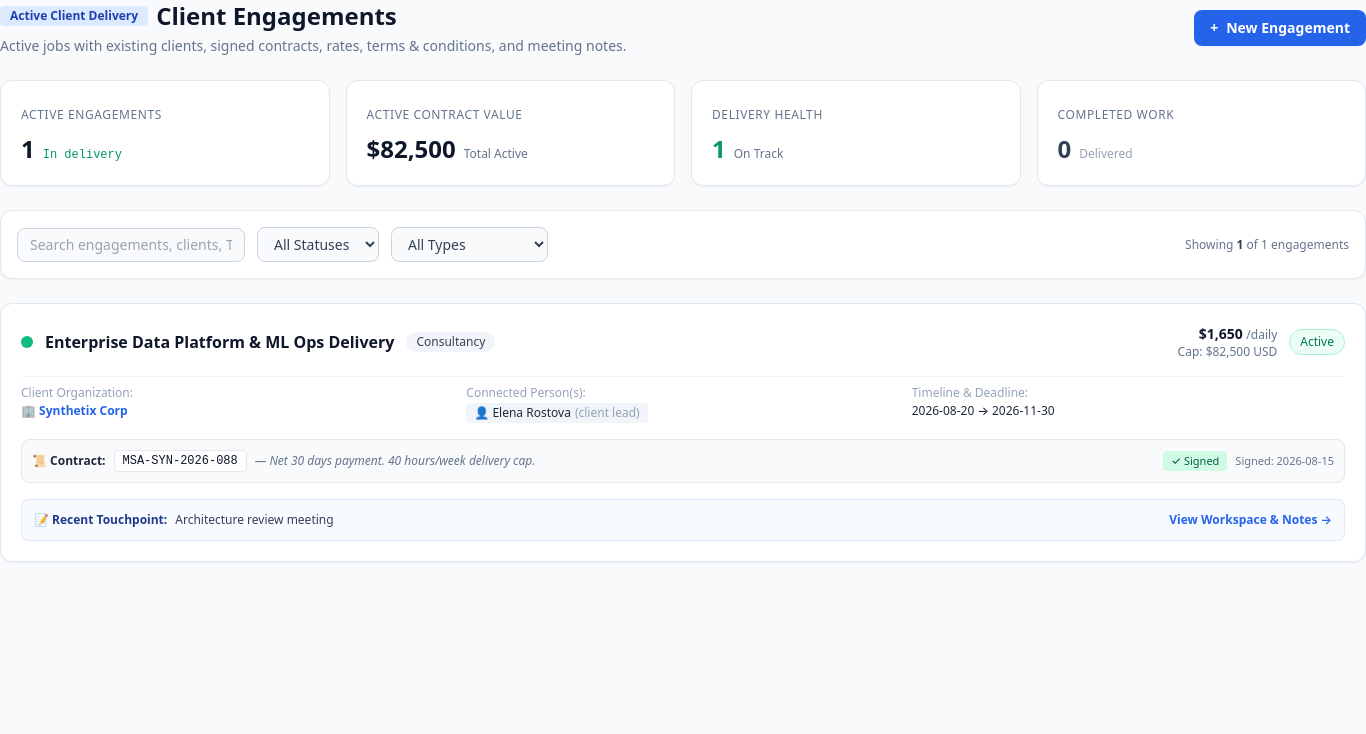
Scenario: EngagementsPage › opens new engagement modal and submits properly
Expected: the link "Enterprise Data Platform & ML Ops Delivery" is shown, [45,331,394,353]
Click the button "+ New Engagement" at point(1280, 28), box [1194,10,1365,46]
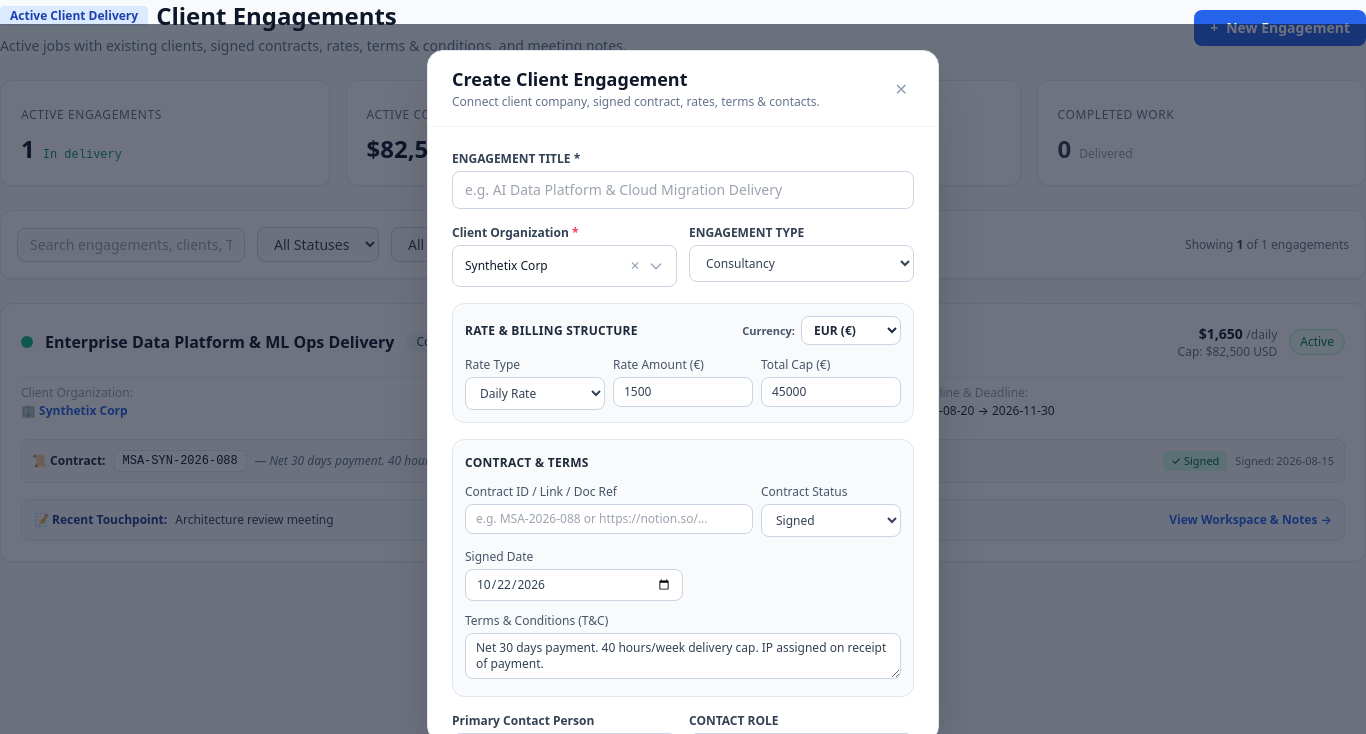
Now the heading "Create Client Engagement" is shown, box [452,67,688,91]
Type "GenAI Strategy Advisory" into the field with placeholder "e.g. AI Data Platform & Cloud Migration Delivery" at point(683, 190), box [452,171,914,209]
(page scrolled)
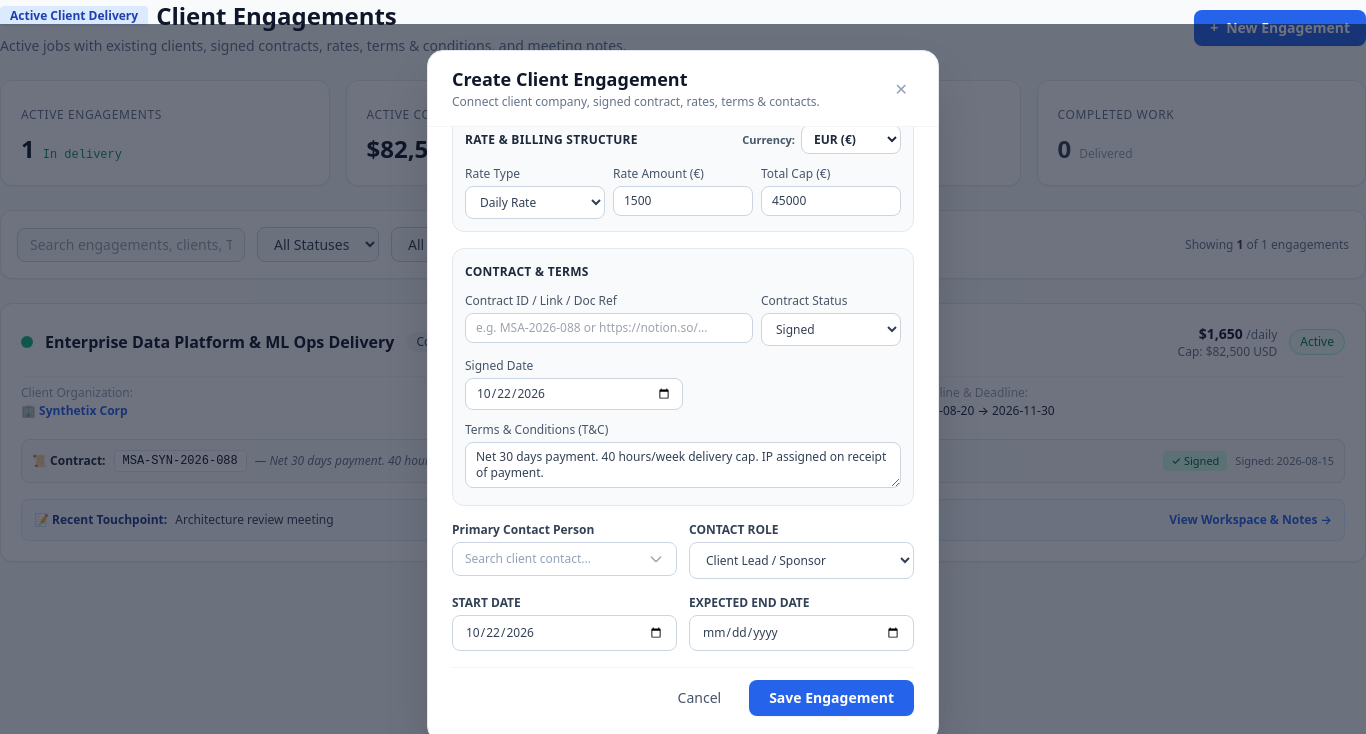
Click the button "Save Engagement" at point(832, 698), box [749,680,914,716]
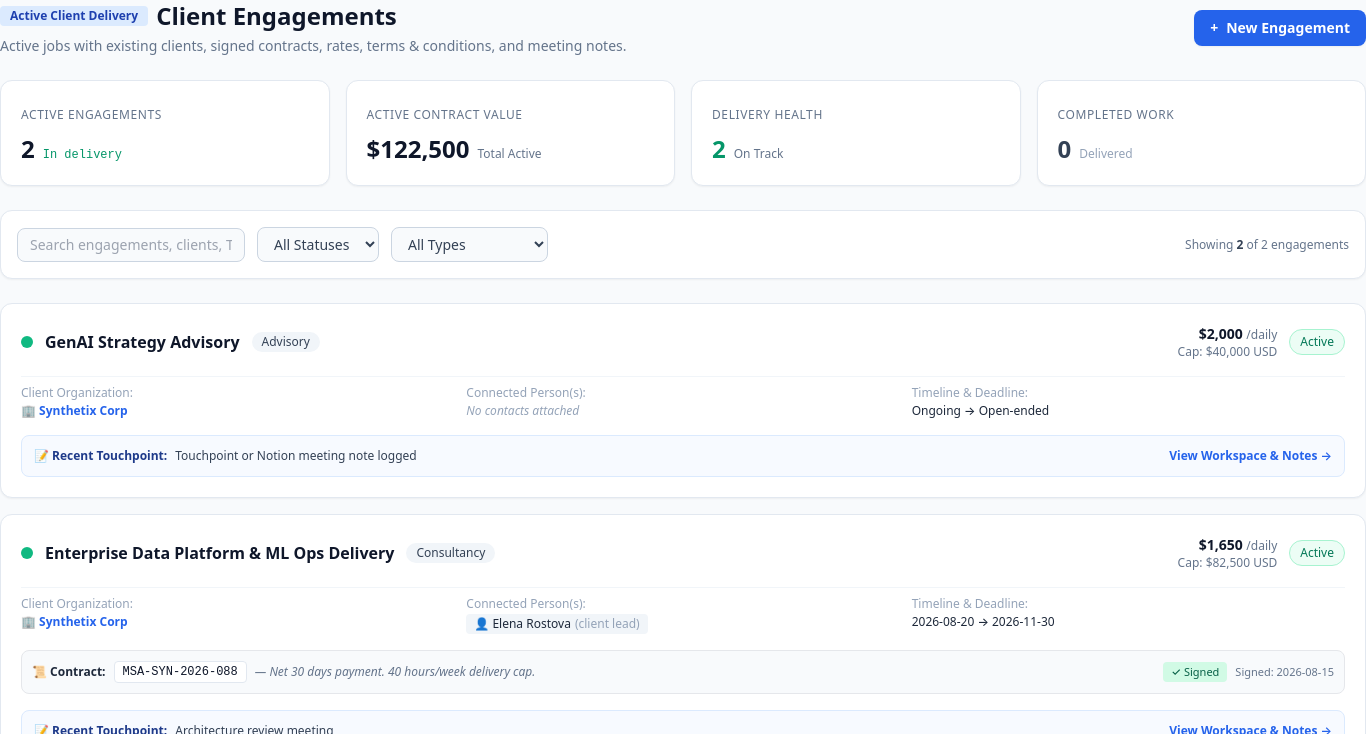
Now the link "GenAI Strategy Advisory" is shown, box [45,331,240,353]
